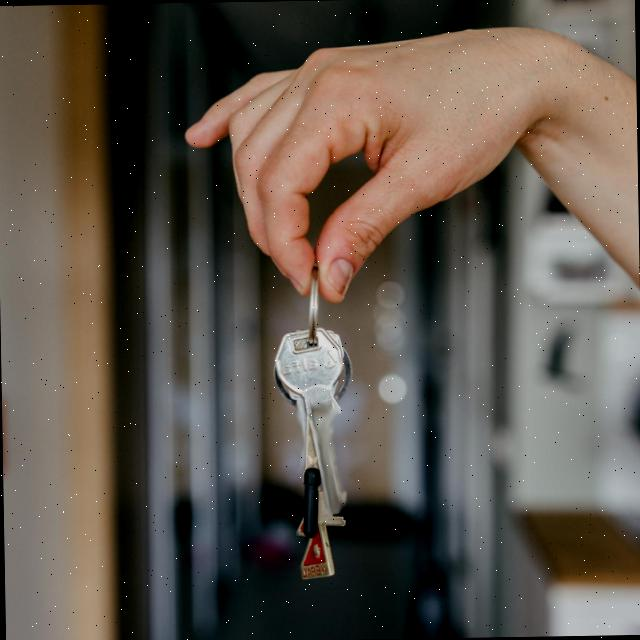Frontdoor keys: (270, 321, 364, 535)
